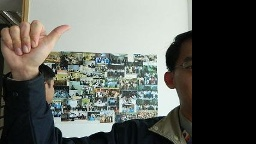Pugno: (0, 15, 72, 78)
